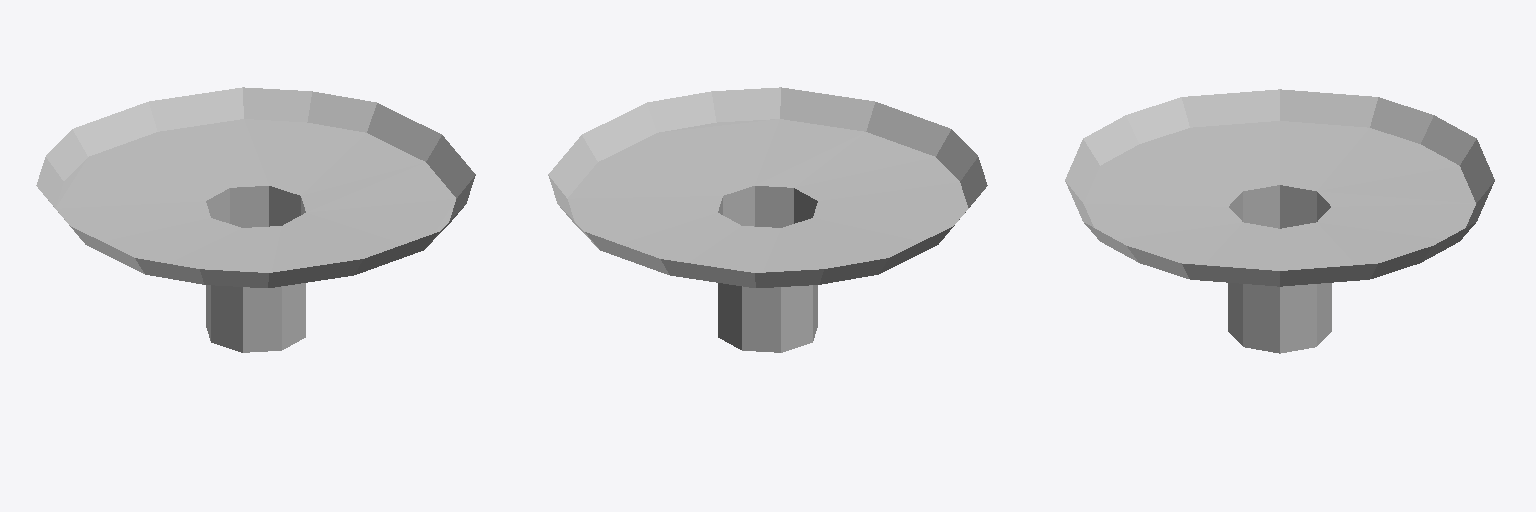
Rendered from bossPivot.obj.
3 views of the same model, side by side, from view 1: azimuth 30°, elevation 25°; view 2: azimuth 150°, elevation 25°; view 3: azimuth 270°, elevation 25° (orthographic).
Visible parts, largest first — view 1: Plane.001_Plane.002; view 2: Plane.001_Plane.002; view 3: Plane.001_Plane.002.
Boxes of the visible parts, box(x1,y1,x2,y2) form: Plane.001_Plane.002: box(36, 87, 475, 352); Plane.001_Plane.002: box(548, 87, 987, 352); Plane.001_Plane.002: box(1065, 89, 1494, 353).
Size of the model in its own units: 1.75 by 0.6803 by 1.75.